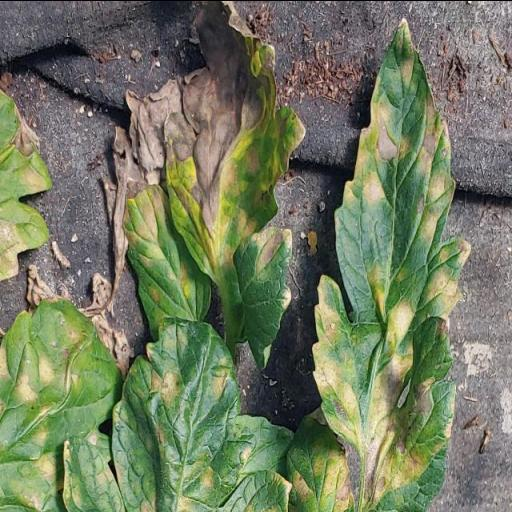disease_tomato: (281, 18, 472, 512), (124, 40, 308, 370), (62, 314, 295, 512), (0, 297, 125, 512)
